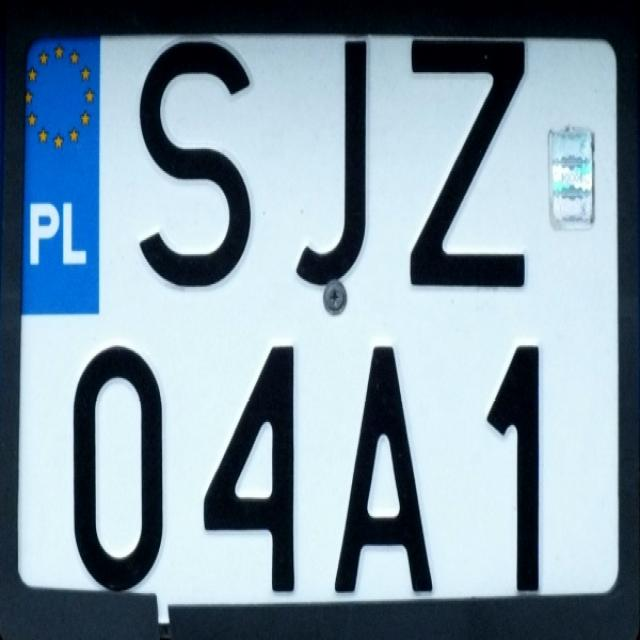pl_license_plate: (21, 35, 614, 599)
